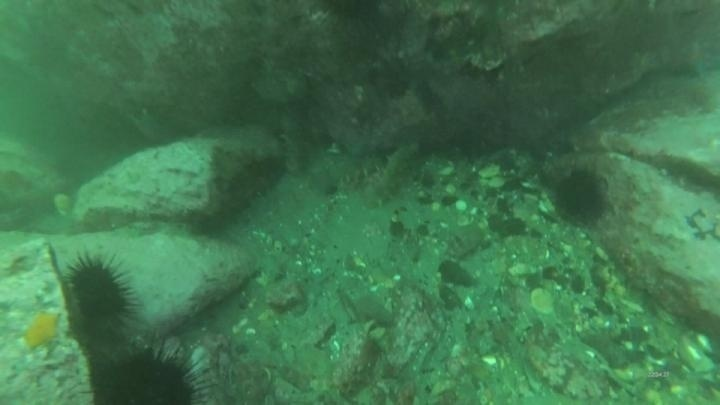echinus: (96, 343, 209, 405), (64, 251, 139, 334), (550, 166, 610, 228), (315, 1, 389, 29)
holothurian: (190, 151, 288, 238), (362, 139, 423, 209), (313, 147, 394, 192), (277, 107, 312, 176)
starfish: (667, 38, 720, 81), (16, 307, 64, 353)
